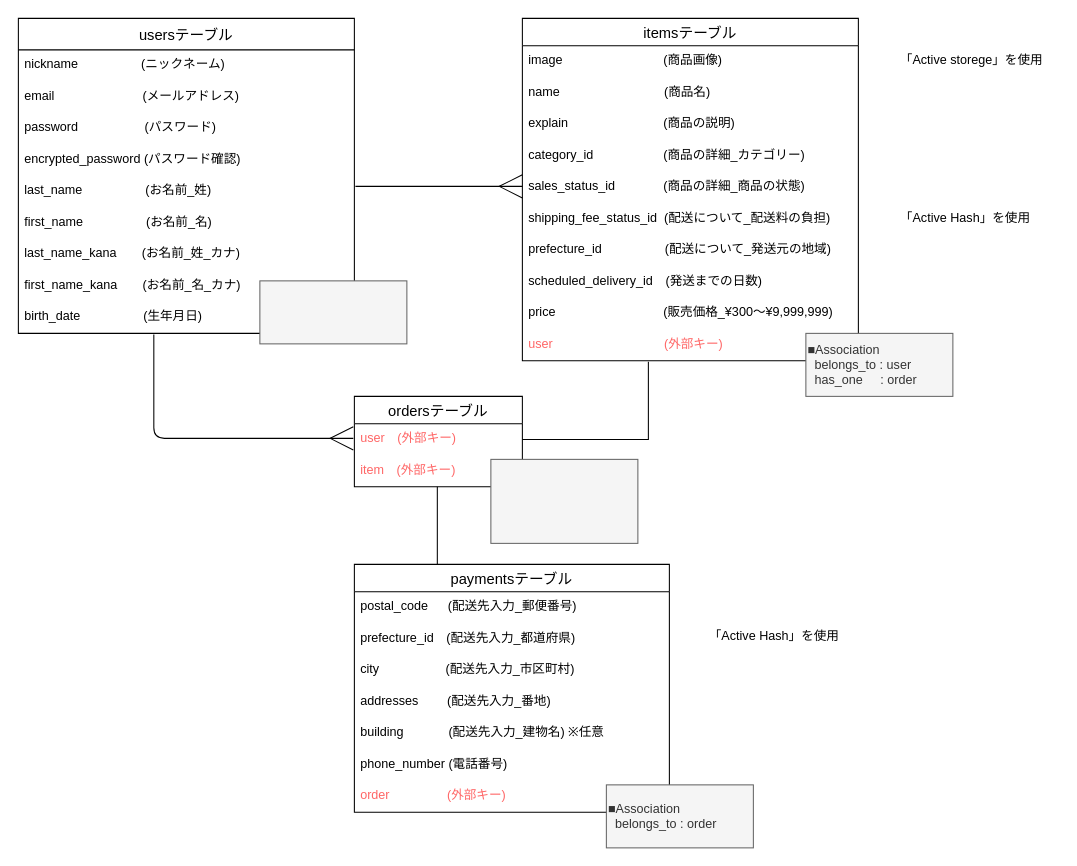
The diagram is 1077 pixels wide and 866 high, and some of its shapes have lost their labels. Each missing label, with the centre of its shape:
■Association belongs_to : user belongs_to : item has_one : payment: (x=564, y=500)
■Association has_many : items has_many : orders: (x=333, y=312)
